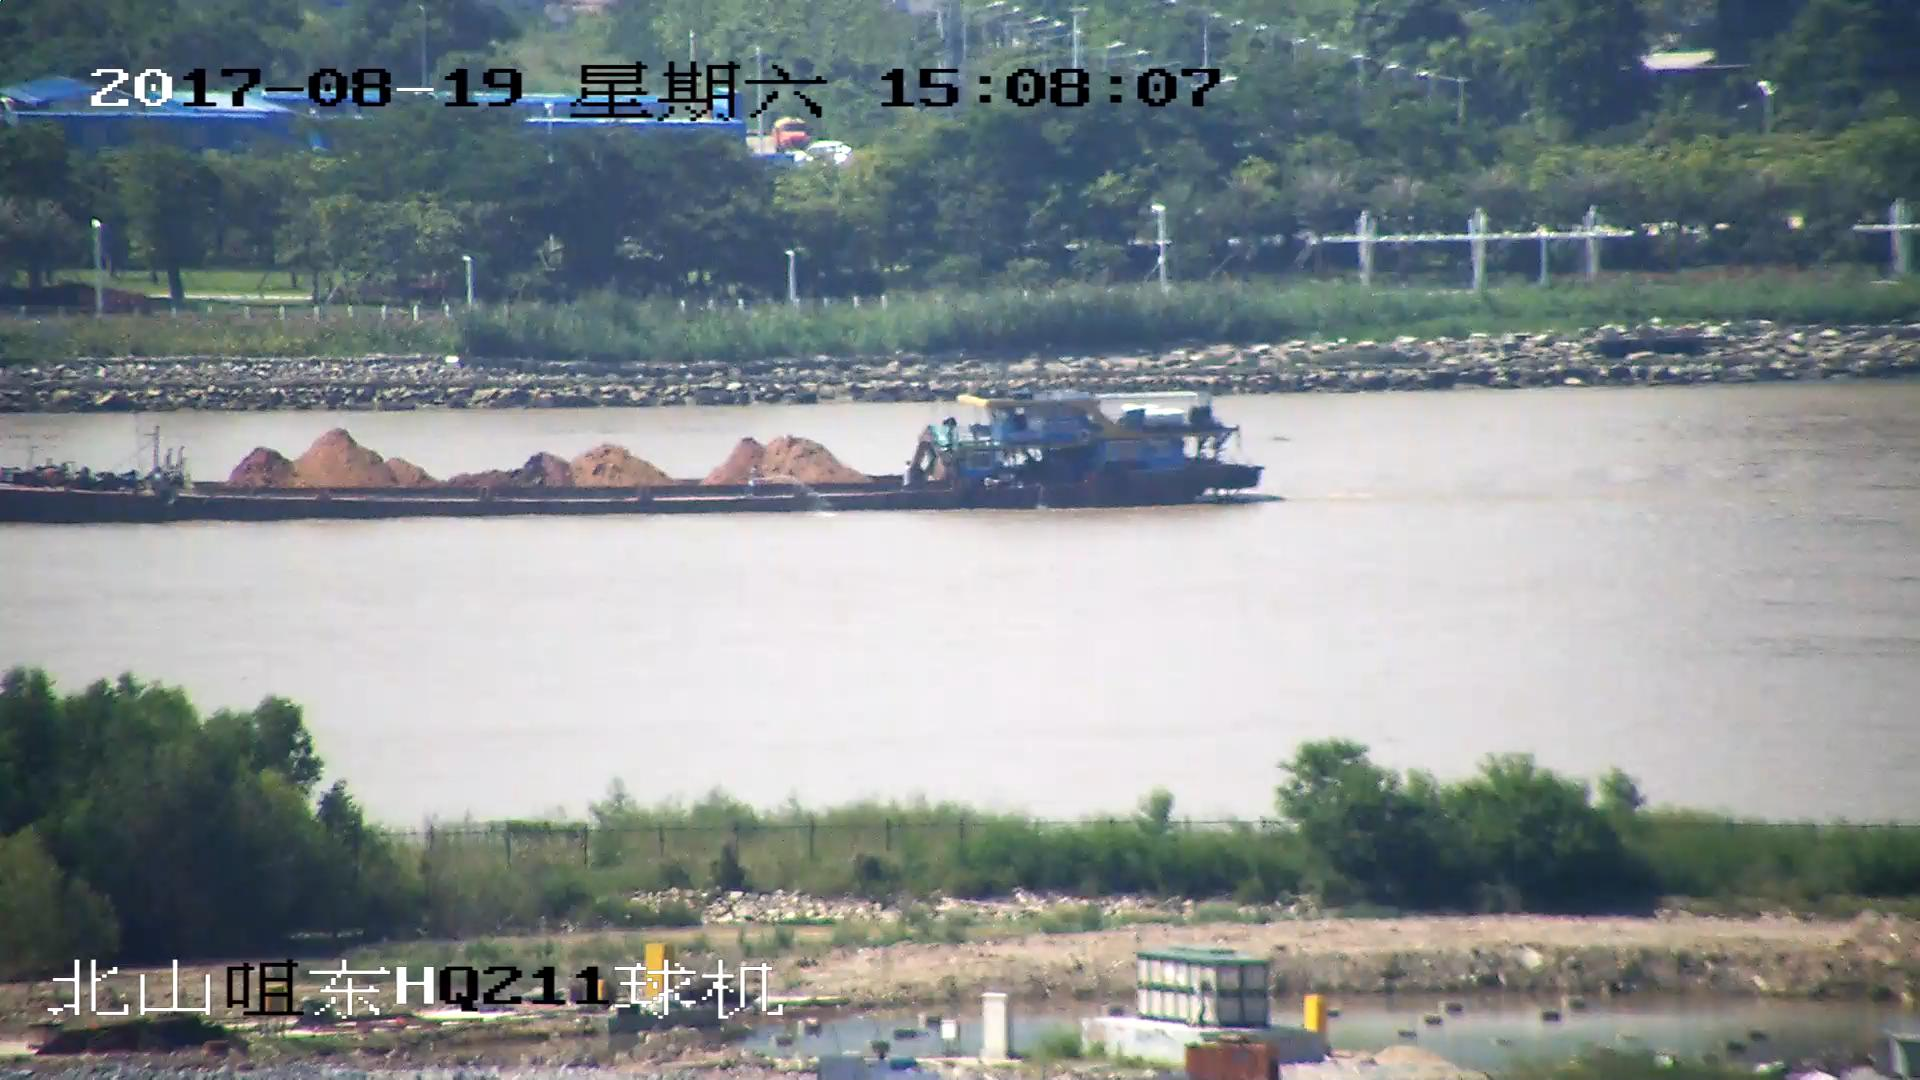ore carrier: (1, 389, 1261, 522)
